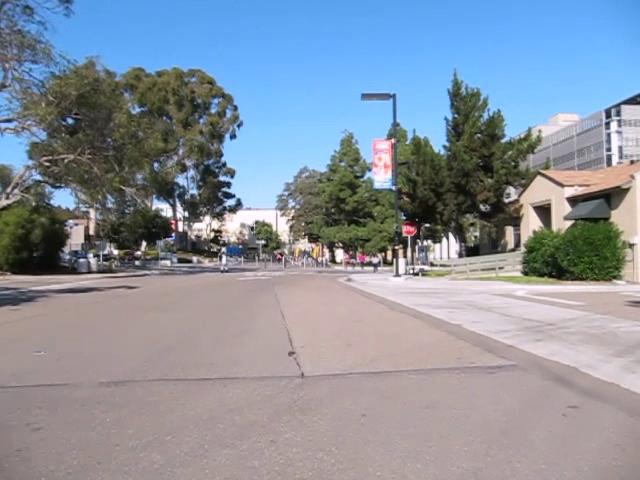stop: (401, 219, 418, 236)
